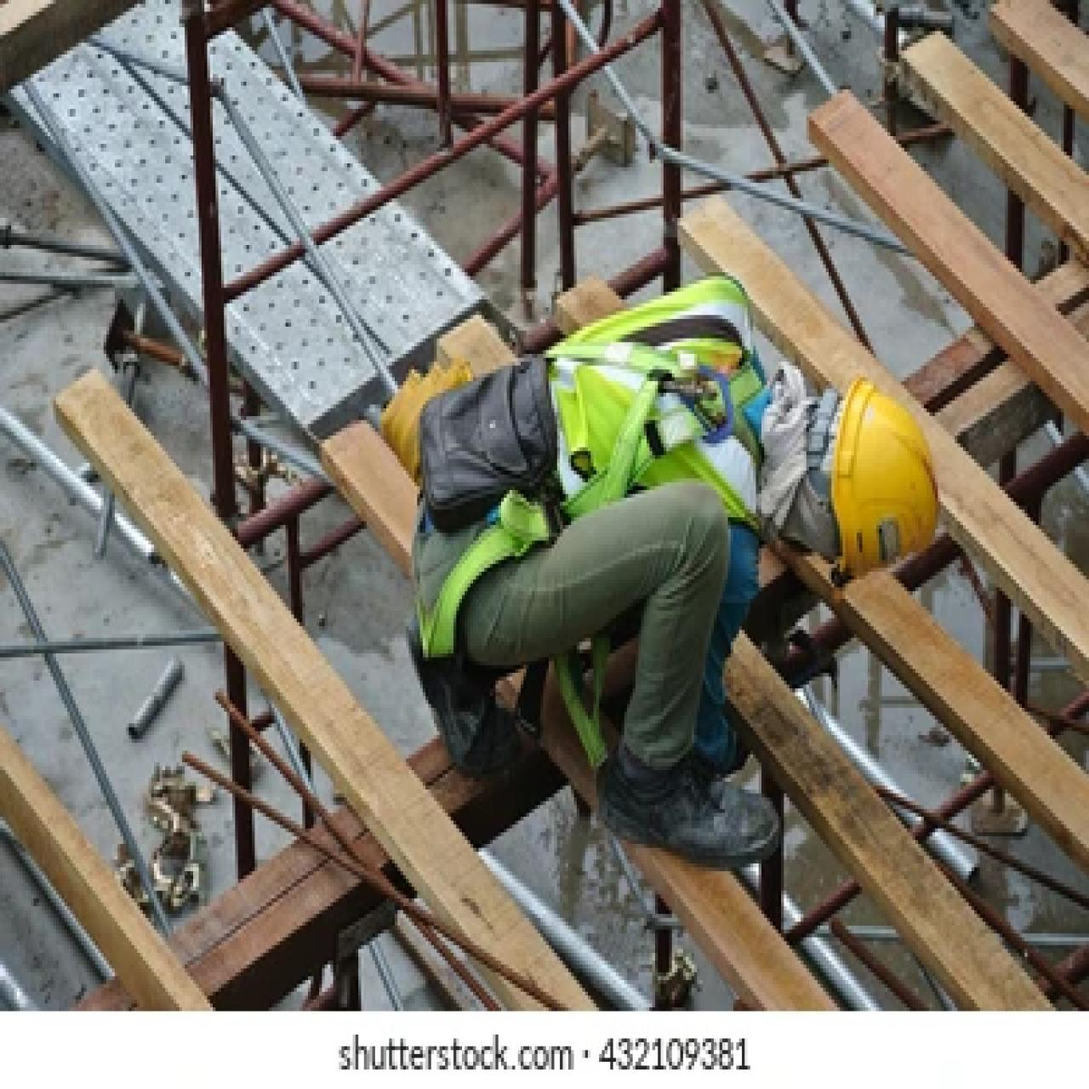Person: (398, 234, 952, 911)
Safety_Vest: (430, 258, 783, 612)
